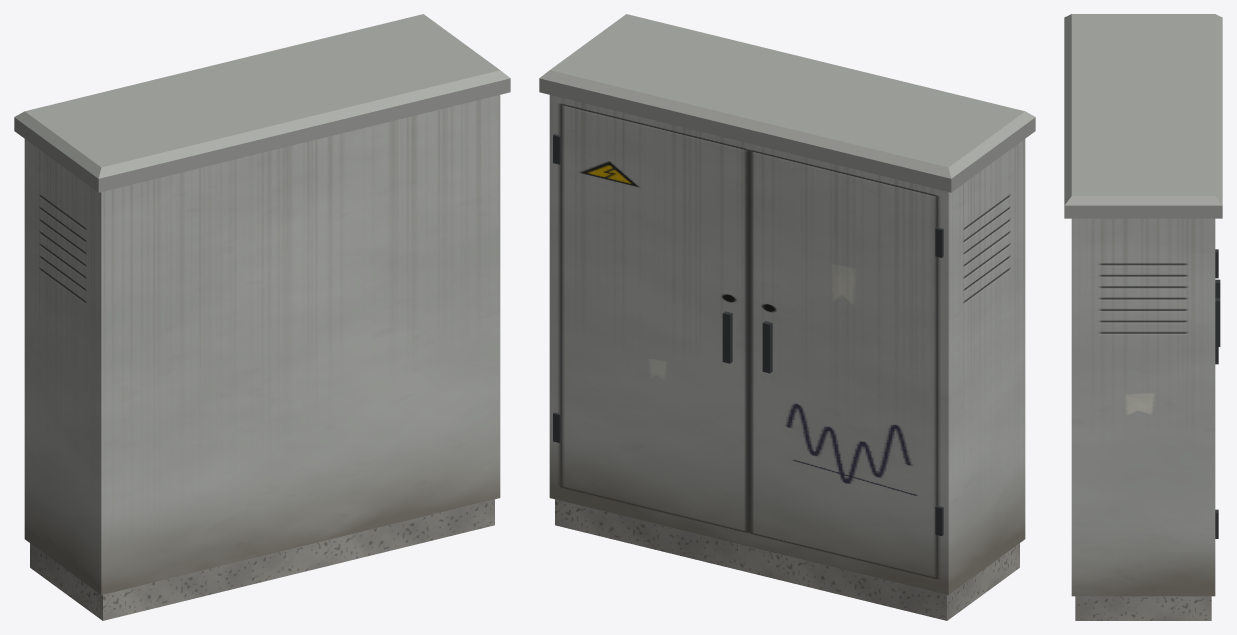
File: street_cabinet.glb
3 renders of one model, left to right at view 1: azimuth 30°, elevation 25°; view 2: azimuth 150°, elevation 25°; view 3: azimuth 270°, elevation 25°, orthographic. The views are drawn at different scales.
Visible parts, largest first — view 1: street_cabinet; view 2: street_cabinet; view 3: street_cabinet.
Boxes of the visible parts, left/top/right/bottom form: street_cabinet: left=14, top=14, right=510, bottom=620; street_cabinet: left=539, top=14, right=1035, bottom=620; street_cabinet: left=1064, top=14, right=1222, bottom=620.
Size of the model in its own units: 1.24 by 1.31 by 0.44.
Materials: 4 (2 with a texture image).
